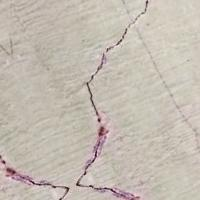crack: (1, 0, 152, 199)
